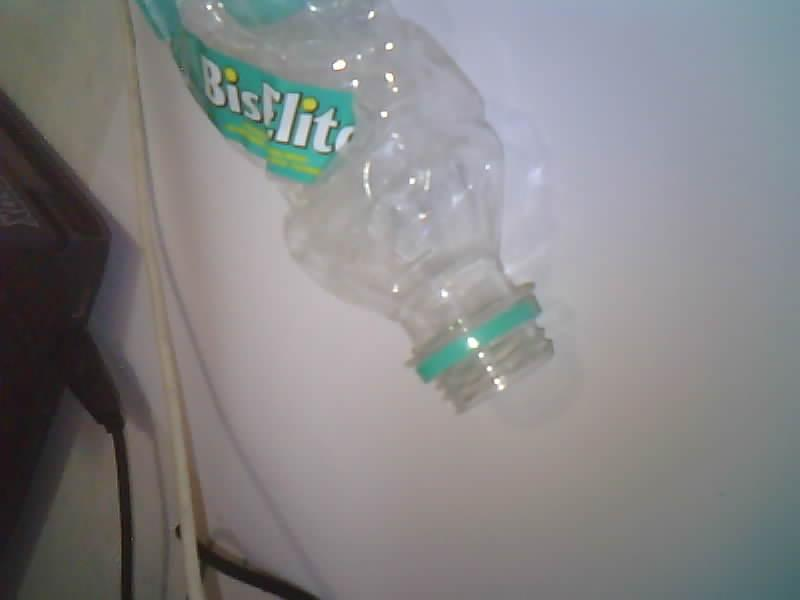non-biodegradable: (170, 0, 552, 410)
